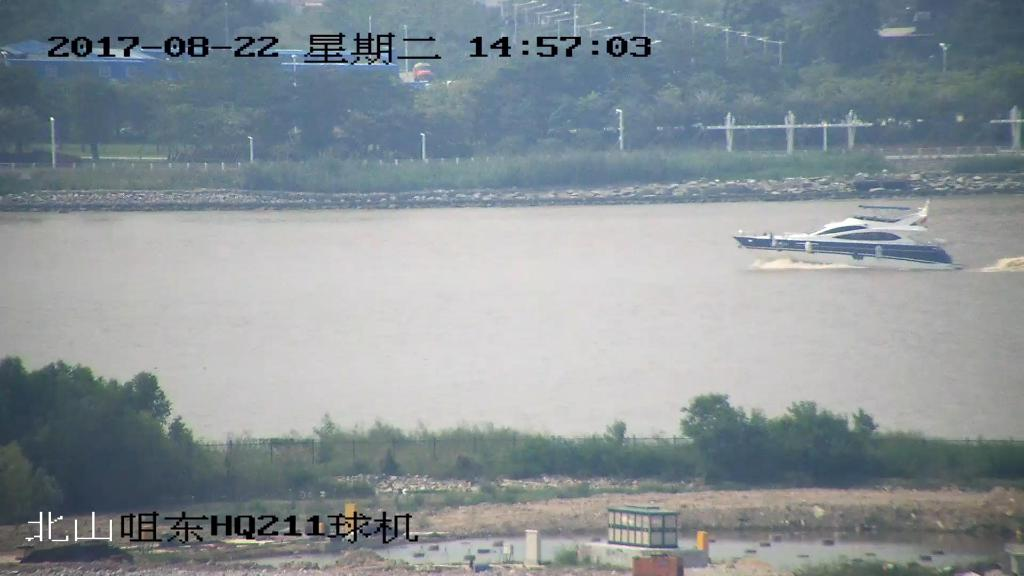PassengerShip: (720, 195, 968, 275)
